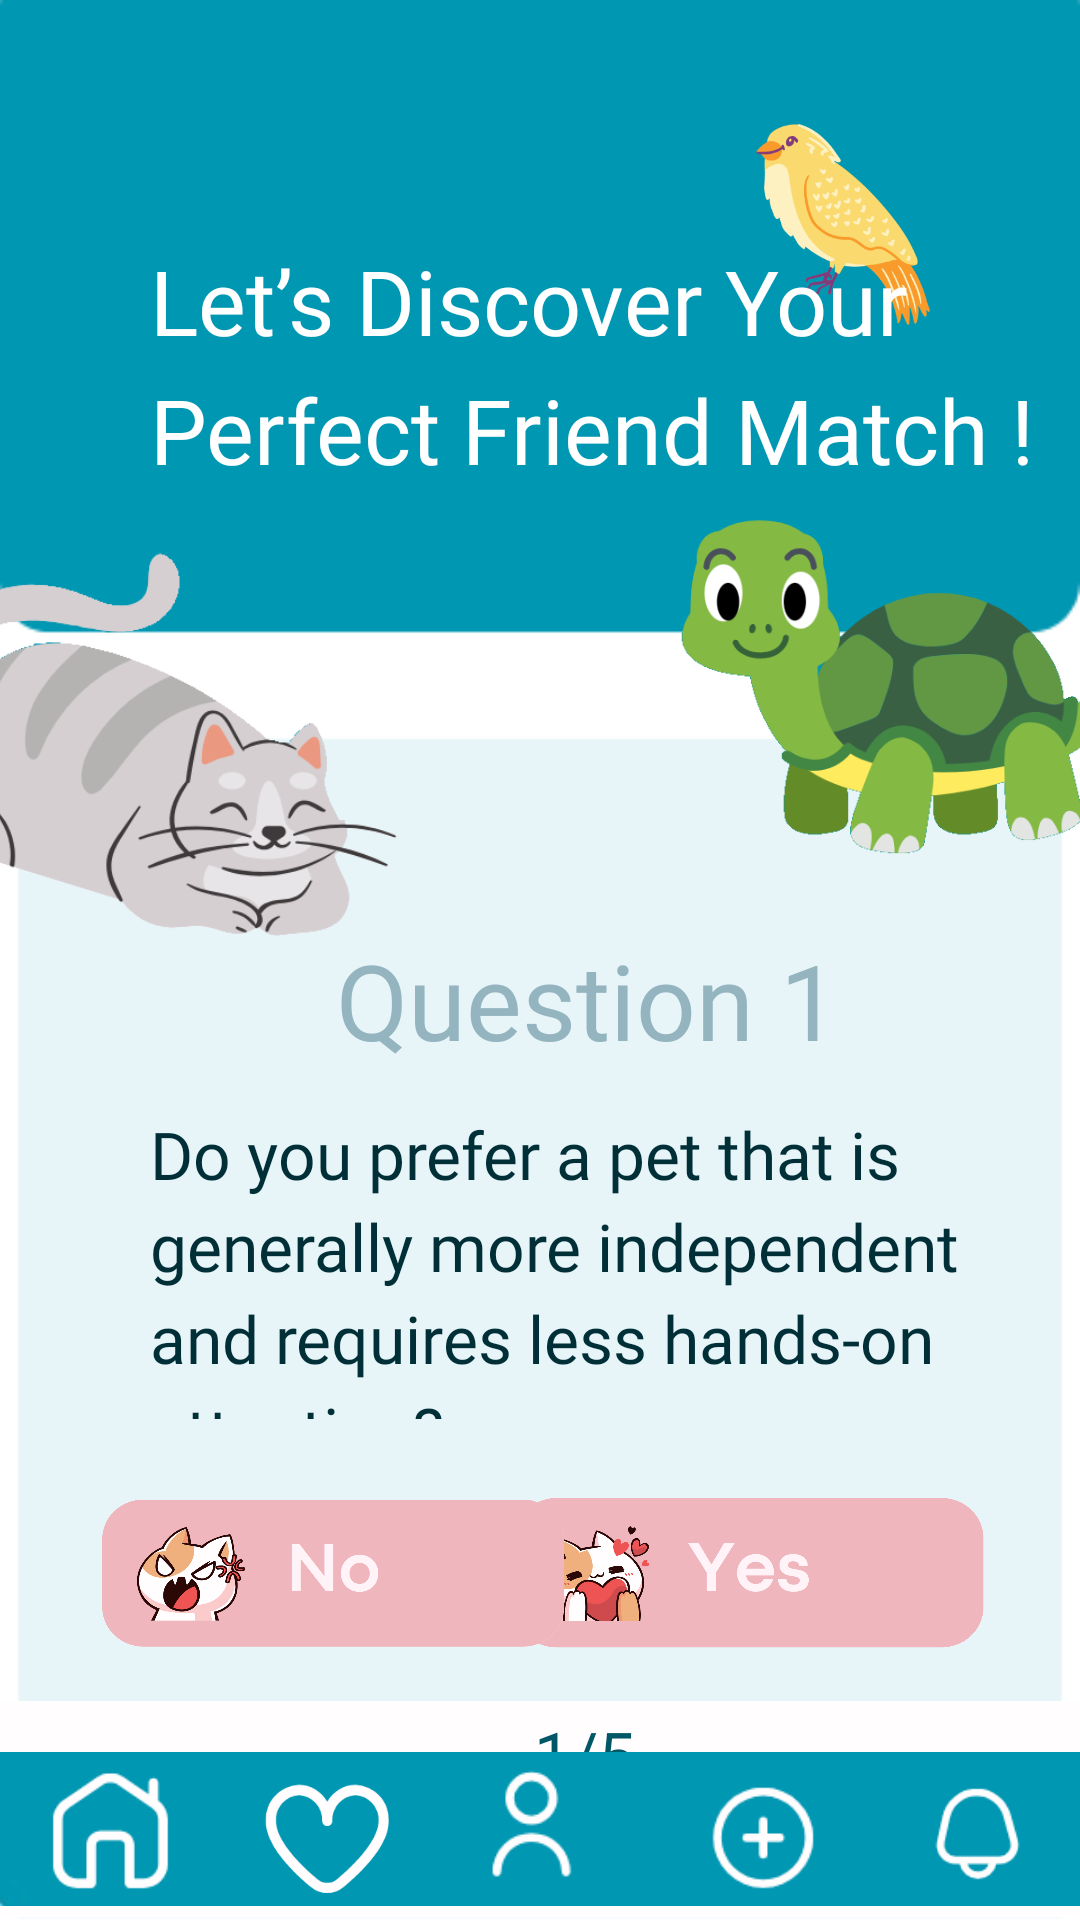

Point at icon controls on the screen. Image size 1080 x 1920, points as (x,y).
add: (756,1830)
bird: (827,230)
heart: (324,1830)
home: (108,1829)
notification: (972,1829)
profile: (540,1830)
